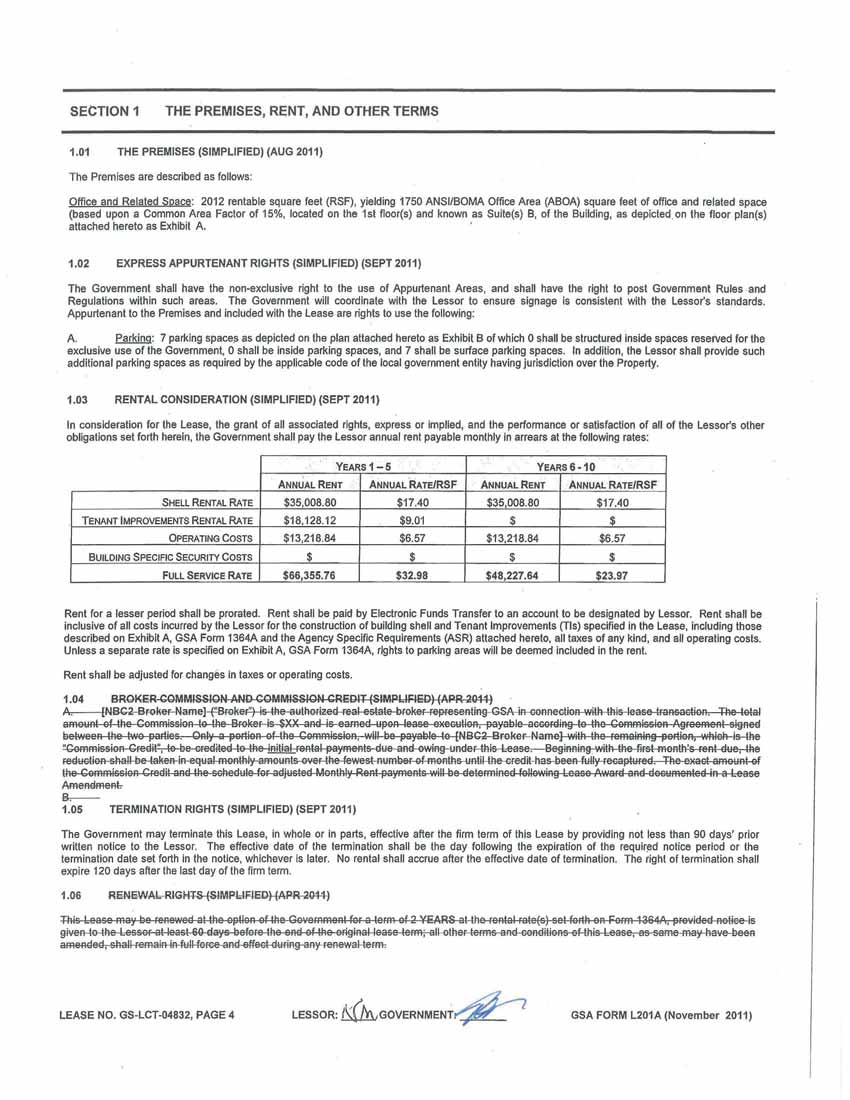handwritten: (449, 972, 530, 1034), (334, 992, 380, 1030)
